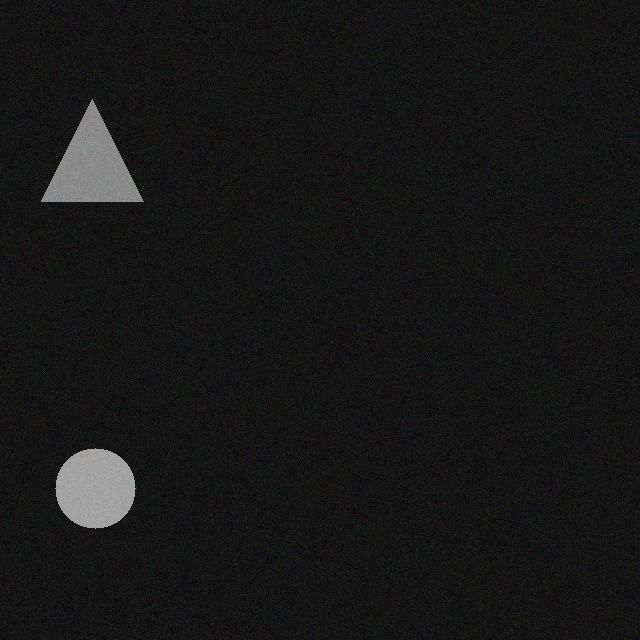circle: (40, 442, 120, 522)
triangle: (26, 93, 128, 195)
